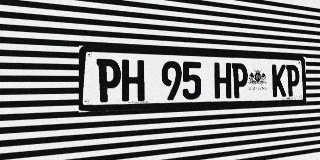5: (182, 61, 201, 100)
9: (162, 61, 182, 100)
H: (122, 59, 144, 102), (214, 62, 231, 99)
K: (272, 64, 286, 97)
P: (96, 59, 121, 102), (232, 63, 248, 98), (286, 65, 300, 97)
